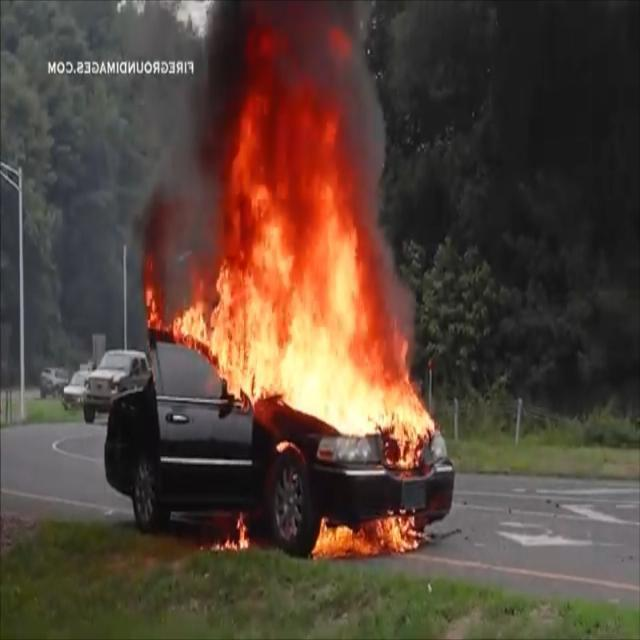fire: (142, 11, 442, 468), (210, 496, 426, 564)
